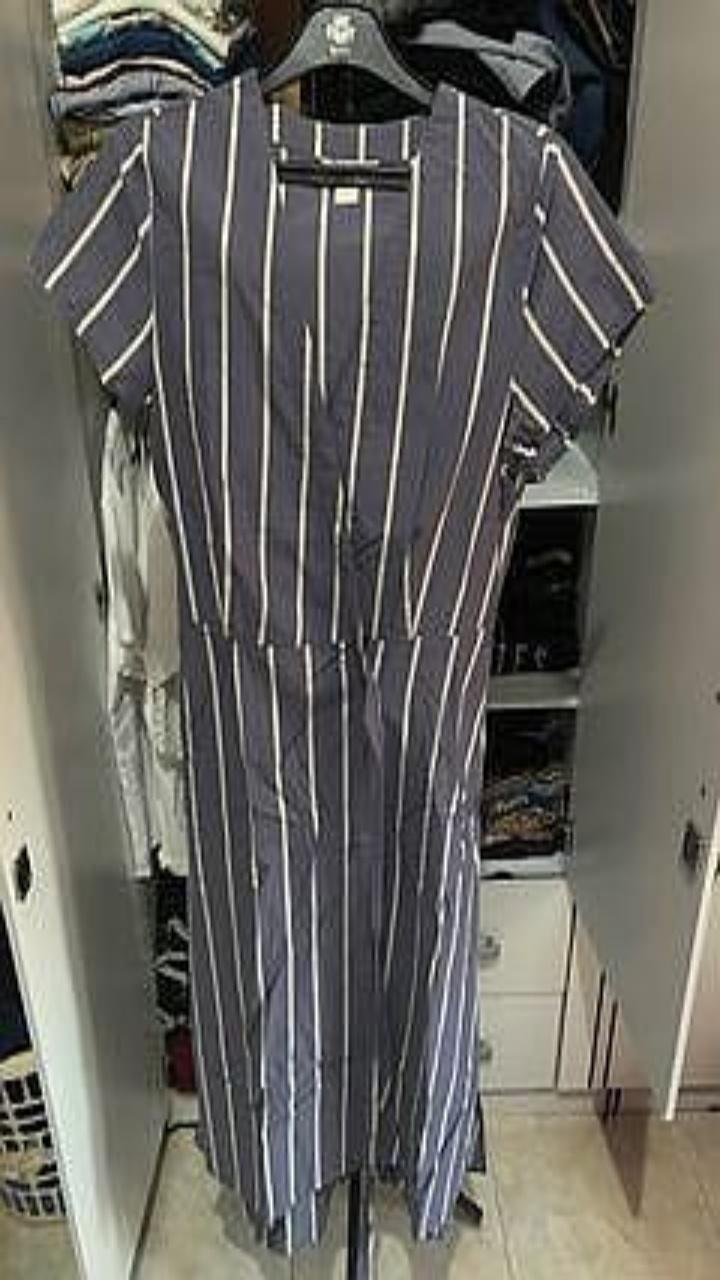Dresses: (35, 73, 648, 1250)
